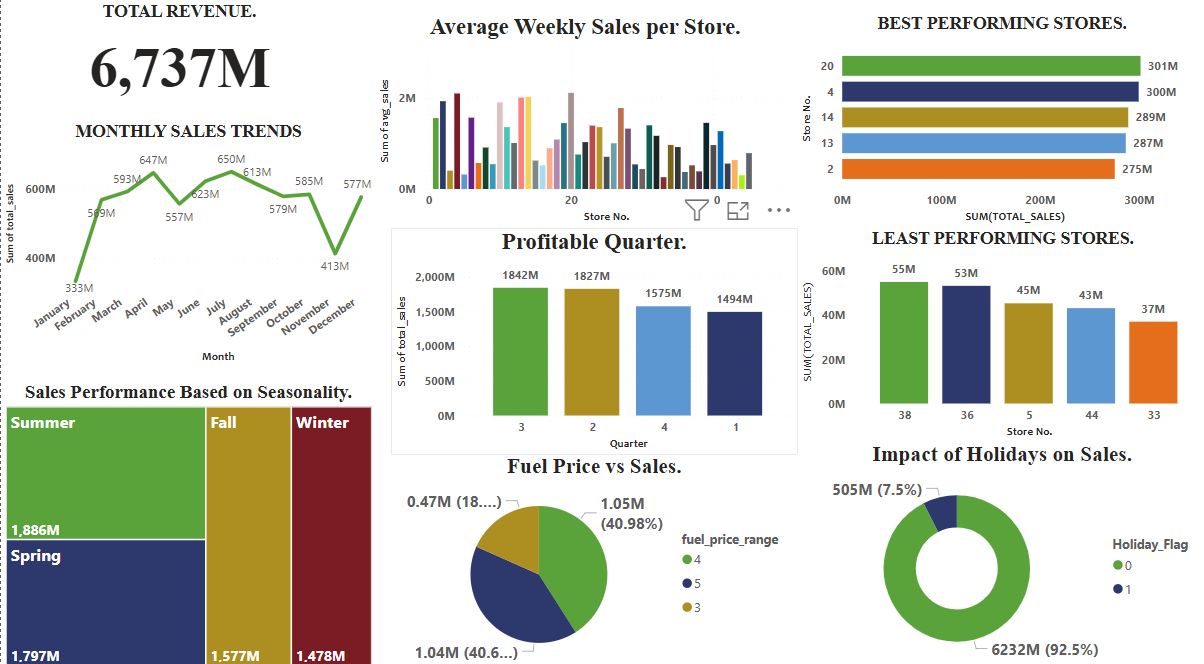

This screenshot's page, from the dashboard's own definition file:
{"tool":"powerbi","page":{"name":"Page 1","canvas":[1280,720],"ordinal":0},"visuals":[{"type":"lineChart","title":"MONTHLY SALES TRENDS","fields":{"Category":["monthly_sales_trend.month.Variation.Date Hierarchy.Month","monthly_sales_trend.month.Variation.Date Hierarchy.Day"],"Y":["Sum(monthly_sales_trend.total_sales)"]},"box":[0,138.4,397.7,260.9],"z":0},{"type":"clusteredBarChart","title":"BEST PERFORMING STORES.","fields":{"Category":["best_performing_stores.store"],"Y":["Sum(best_performing_stores.total_sales)"]},"box":[843,23.9,437.4,227.5],"z":1000},{"type":"clusteredColumnChart","title":"LEAST PERFORMING STORES.","fields":{"Category":["least_performing_stores.store"],"Y":["Sum(least_performing_stores.total_sales)"]},"box":[844.6,251.3,435.8,227.5],"z":2000},{"type":"donutChart","title":"Impact of Holidays on Sales.","fields":{"Y":["Sum(Holiday_Performance.total_sales)"],"Category":["Holiday_Performance.holiday_flag"]},"box":[843,478.8,437.4,241.8],"z":3000},{"type":"pieChart","title":"Fuel Price vs Sales.","fields":{"Category":["fuel_price_vs_sales.fuel_price_range"],"Y":["Sum(fuel_price_vs_sales.avg_sales)"]},"box":[413.6,491.5,431.1,229],"z":4000},{"type":"card","title":"TOTAL REVENUE.","fields":{"Values":["Sum(total_revenue.total_revenue)"]},"box":[30.2,11.1,318.1,108.2],"z":5000},{"type":"columnChart","title":"Average Weekly Sales per Store.","fields":{"Y":["Sum(Average_Weekly_Sales_per_Store.avg_sales)"],"Category":["Average_Weekly_Sales_per_Store.store"],"Series":["Average_Weekly_Sales_per_Store.store"]},"box":[396.1,23.9,447,227.5],"z":6000},{"type":"treemap","title":" Sales Performance Based on Seasonality.","fields":{"Group":["season_based_sales.Season"],"Values":["Sum(season_based_sales.total_sales)"]},"box":[0,413.6,397.7,307],"z":7000},{"type":"clusteredColumnChart","title":"Profitable Quarter.","fields":{"Category":["profitable_quarter.quarter"],"Y":["Sum(profitable_quarter.total_sales)"]},"box":[413.6,251.3,431.1,240.2],"z":8000}]}

Visuals, with their boxes in screenshot pixels (x1, y1, x2, y2), scaled from the page's 1280x720 canvas onto the 1204x664 screenshot:
"MONTHLY SALES TRENDS" lineChart: [left=0, top=128, right=374, bottom=368]
"BEST PERFORMING STORES." clusteredBarChart: [left=793, top=22, right=1203, bottom=232]
"LEAST PERFORMING STORES." clusteredColumnChart: [left=794, top=232, right=1203, bottom=442]
"Impact of Holidays on Sales." donutChart: [left=793, top=442, right=1203, bottom=663]
"Fuel Price vs Sales." pieChart: [left=389, top=453, right=795, bottom=663]
"TOTAL REVENUE." card: [left=28, top=10, right=328, bottom=110]
"Average Weekly Sales per Store." columnChart: [left=373, top=22, right=793, bottom=232]
" Sales Performance Based on Seasonality." treemap: [left=0, top=381, right=374, bottom=663]
"Profitable Quarter." clusteredColumnChart: [left=389, top=232, right=795, bottom=453]
